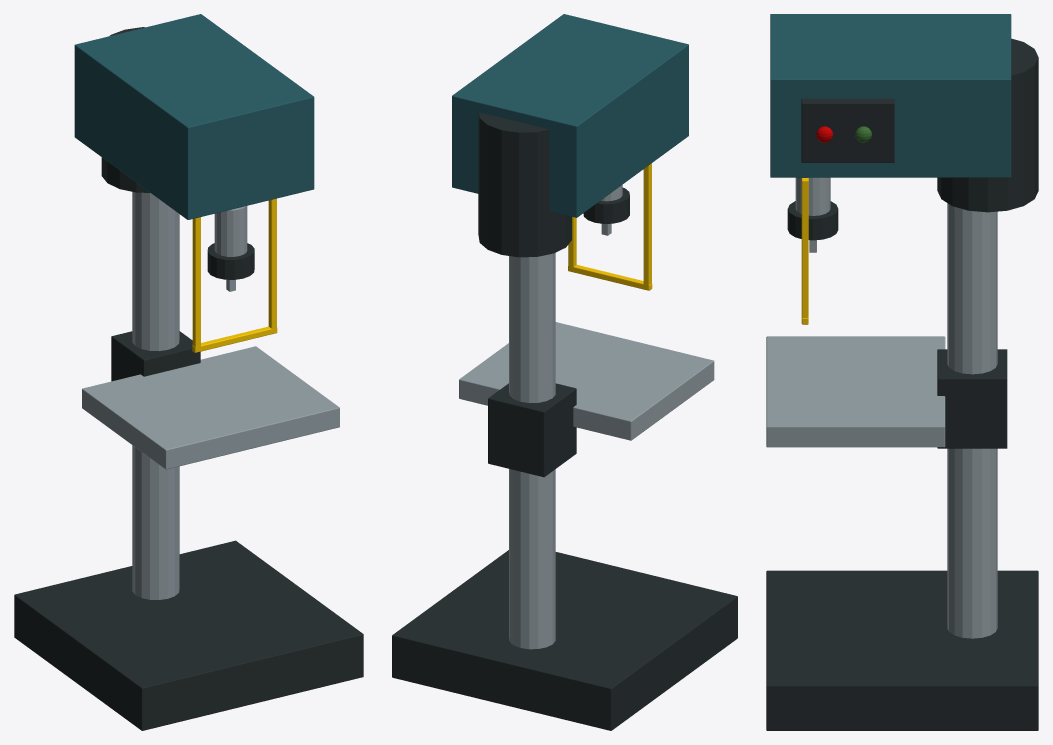
File: industrial-machine.glb
The picture shows the model from 3 angles, left to right: view 1: azimuth 30°, elevation 25°; view 2: azimuth 150°, elevation 25°; view 3: azimuth 270°, elevation 25°; orthographic projection. The views are drawn at different scales.
Parts seen in each view (by area): view 1: Base, Headstock, Adjustable_Worktable, Column, Column_Collar, Quill, Chuck, Guard_Post.001, Guard_Post, Motor, Guard_Crossbar; view 2: Base, Headstock, Column, Adjustable_Worktable, Motor, Column_Collar, Guard_Post, Chuck, Guard_Crossbar; view 3: Base, Headstock, Adjustable_Worktable, Column, Motor, Control_Panel, Column_Collar, Chuck, Guard_Post.001, Quill.
Boxes of the visible parts, <box> form: Base: <box>14,540,363,730</box>; Headstock: <box>74,14,314,219</box>; Adjustable_Worktable: <box>82,346,339,469</box>; Column: <box>132,192,179,599</box>; Column_Collar: <box>111,331,200,381</box>; Quill: <box>214,206,247,256</box>; Chuck: <box>207,243,254,279</box>; Guard_Post.001: <box>268,198,276,330</box>; Guard_Post: <box>192,217,200,348</box>; Motor: <box>101,27,149,192</box>; Guard_Crossbar: <box>192,326,277,352</box>; Base: <box>392,550,737,730</box>; Headstock: <box>452,14,688,217</box>; Column: <box>509,253,555,649</box>; Adjustable_Worktable: <box>459,322,714,440</box>; Motor: <box>478,112,571,257</box>; Column_Collar: <box>488,383,576,477</box>; Guard_Post: <box>643,163,651,285</box>; Chuck: <box>583,187,629,223</box>; Guard_Crossbar: <box>568,265,652,290</box>; Base: <box>766,570,1038,730</box>; Headstock: <box>770,14,1011,177</box>; Adjustable_Worktable: <box>766,336,945,447</box>; Column: <box>947,203,997,638</box>; Motor: <box>937,38,1038,212</box>; Control_Panel: <box>801,98,894,162</box>; Column_Collar: <box>937,349,1007,448</box>; Chuck: <box>787,201,838,240</box>; Guard_Post.001: <box>801,178,808,318</box>; Quill: <box>795,177,830,215</box>.
Size of the model in its own units: 0.7 by 1.78 by 0.7.
